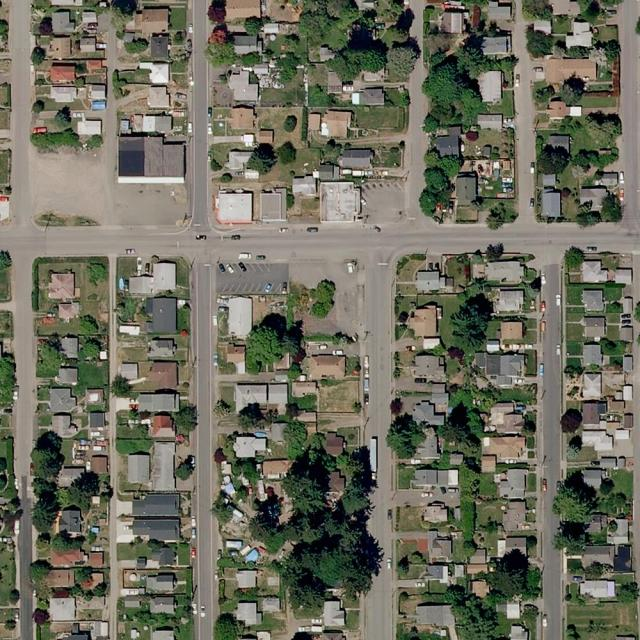building: (117, 135, 187, 183), (320, 180, 362, 223), (129, 262, 176, 294), (413, 426, 449, 466), (545, 59, 596, 84), (481, 436, 528, 463), (575, 178, 610, 214), (474, 352, 525, 376), (216, 191, 252, 224), (132, 517, 180, 541), (152, 441, 175, 491), (227, 296, 253, 339), (132, 493, 180, 516), (227, 69, 259, 103), (490, 402, 524, 434), (308, 353, 346, 380), (415, 602, 456, 627), (259, 187, 288, 222), (409, 305, 439, 338), (134, 8, 169, 36), (410, 468, 459, 488), (485, 259, 525, 283), (411, 400, 447, 426), (578, 460, 609, 490), (151, 297, 176, 334), (137, 391, 180, 412), (233, 598, 263, 628), (148, 360, 179, 389), (321, 110, 352, 139), (235, 384, 268, 411), (427, 529, 453, 562), (500, 469, 528, 499), (502, 500, 528, 531), (412, 354, 445, 378), (80, 567, 108, 595), (455, 172, 478, 206), (226, 0, 262, 21), (338, 149, 374, 170), (49, 271, 75, 300), (51, 412, 78, 439), (565, 21, 593, 47), (232, 436, 266, 457), (479, 71, 502, 102), (225, 342, 247, 374), (496, 535, 528, 557), (579, 580, 616, 599), (582, 545, 615, 566), (581, 430, 614, 451), (48, 597, 76, 621), (422, 500, 450, 524), (495, 290, 524, 313), (262, 458, 293, 479), (49, 388, 76, 412), (434, 135, 462, 158), (322, 599, 345, 627), (50, 550, 85, 568), (415, 270, 445, 291), (51, 10, 76, 35), (582, 401, 608, 425), (581, 260, 608, 283), (429, 382, 449, 413), (128, 454, 150, 482), (225, 150, 253, 172), (351, 87, 385, 105), (540, 188, 561, 217), (441, 10, 465, 35), (229, 107, 255, 130), (266, 382, 289, 408), (147, 337, 175, 358), (146, 572, 176, 591), (234, 35, 262, 55), (151, 414, 175, 437), (50, 62, 75, 84), (608, 519, 629, 545), (50, 85, 78, 104), (59, 509, 80, 534), (150, 33, 170, 59), (482, 36, 509, 55), (142, 115, 172, 132), (147, 86, 170, 108), (546, 98, 569, 120), (587, 512, 609, 535), (47, 569, 75, 587), (292, 175, 316, 196), (290, 380, 318, 398), (425, 563, 449, 584), (582, 372, 601, 398), (50, 36, 71, 59), (148, 62, 169, 85), (582, 343, 603, 366), (584, 316, 605, 339), (487, 0, 511, 20), (325, 431, 345, 455), (500, 321, 524, 341), (477, 113, 502, 131), (582, 290, 603, 311), (548, 132, 570, 152), (57, 302, 80, 321), (318, 164, 341, 183), (61, 335, 79, 359), (157, 545, 177, 566), (236, 570, 258, 589), (151, 596, 175, 613), (470, 580, 491, 598), (77, 121, 102, 136), (596, 171, 619, 187), (87, 82, 106, 101), (56, 367, 77, 384), (329, 470, 345, 492), (90, 455, 108, 474), (120, 362, 139, 380), (262, 596, 280, 614), (92, 620, 109, 639), (532, 20, 553, 35), (328, 71, 342, 93), (88, 411, 106, 428), (87, 551, 104, 569), (479, 455, 496, 473), (318, 45, 336, 62), (306, 112, 321, 132), (421, 336, 441, 351), (118, 323, 141, 336), (257, 128, 274, 145), (468, 548, 486, 564), (619, 324, 635, 342), (614, 268, 632, 284), (57, 631, 91, 639), (85, 389, 103, 404), (80, 37, 96, 53), (466, 564, 489, 575), (262, 22, 280, 36), (364, 69, 385, 81), (506, 601, 520, 619), (511, 626, 529, 640), (296, 411, 316, 423), (470, 264, 486, 279), (81, 11, 98, 25), (86, 60, 103, 74), (123, 595, 140, 608), (495, 375, 513, 387), (600, 456, 618, 468), (50, 1, 83, 7), (486, 339, 500, 353), (542, 174, 557, 187), (569, 104, 583, 117), (615, 429, 631, 440), (622, 296, 632, 313), (135, 555, 148, 568), (449, 124, 463, 136), (91, 99, 106, 110), (624, 412, 634, 428), (450, 454, 464, 465), (256, 631, 271, 640), (482, 145, 493, 157), (616, 456, 627, 468)
greenland: (273, 437, 337, 612), (309, 504, 392, 601), (558, 106, 631, 176), (421, 53, 483, 131), (241, 310, 306, 380), (449, 30, 519, 93), (31, 431, 66, 532), (263, 25, 320, 87), (54, 467, 111, 521), (340, 446, 380, 517), (240, 132, 300, 179), (378, 31, 425, 84), (415, 163, 457, 220), (248, 494, 286, 555), (30, 125, 103, 154), (563, 38, 623, 73), (573, 191, 626, 228), (29, 559, 51, 639), (34, 526, 87, 559), (424, 4, 455, 59), (201, 23, 237, 69), (420, 145, 464, 181), (0, 415, 18, 498), (554, 72, 593, 110), (534, 142, 571, 180), (232, 401, 270, 437), (30, 128, 82, 154), (352, 106, 405, 131), (279, 418, 309, 461), (481, 199, 520, 232), (230, 451, 266, 486), (52, 582, 109, 603), (36, 340, 65, 379), (75, 361, 108, 395), (116, 424, 152, 455), (119, 609, 155, 640), (206, 494, 239, 527), (309, 278, 335, 319), (79, 315, 102, 361), (0, 542, 16, 606), (172, 453, 202, 484), (526, 26, 554, 58), (0, 354, 16, 407), (173, 403, 198, 435), (108, 374, 134, 401), (0, 250, 13, 302), (115, 295, 138, 324), (372, 145, 401, 167), (123, 35, 150, 58), (309, 83, 336, 106), (210, 397, 234, 421), (534, 82, 556, 108), (117, 256, 138, 281), (86, 261, 106, 286), (240, 49, 264, 69), (207, 0, 227, 23), (243, 16, 265, 36), (31, 258, 39, 311), (0, 310, 14, 338), (75, 566, 94, 584), (30, 45, 47, 65), (178, 304, 190, 332), (55, 106, 71, 126), (282, 114, 298, 134), (29, 98, 47, 115), (288, 362, 301, 380), (236, 485, 249, 501), (536, 135, 546, 154)
metalled_road: (37, 218, 640, 270), (0, 0, 44, 640), (536, 264, 565, 640), (362, 251, 395, 559), (192, 254, 218, 640), (398, 58, 435, 223), (632, 341, 640, 584), (407, 0, 425, 43)
